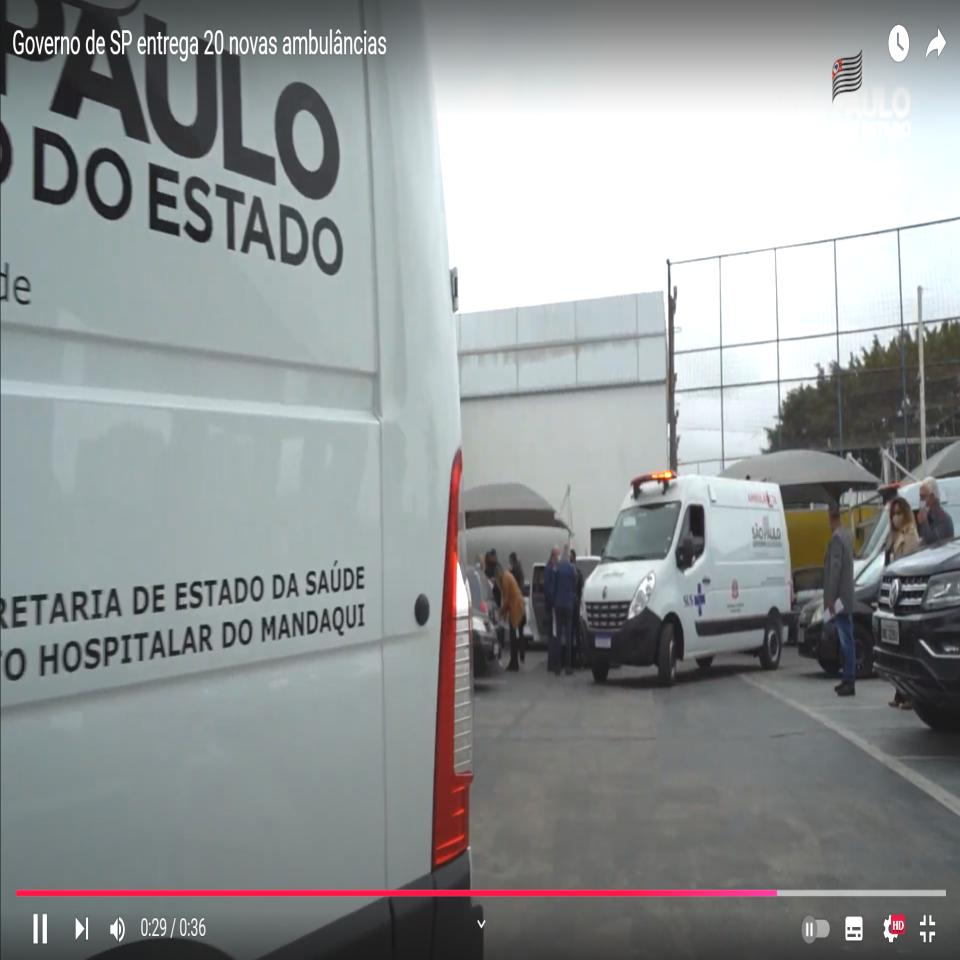ambulancia: (578, 469, 794, 688)
